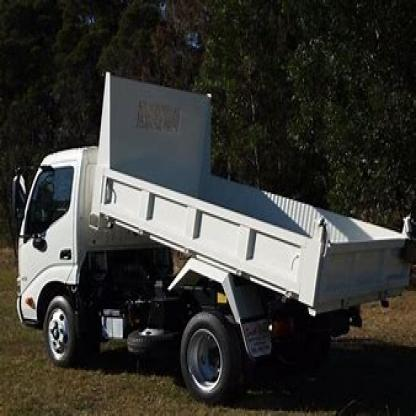dump_truck: (12, 62, 409, 396)
